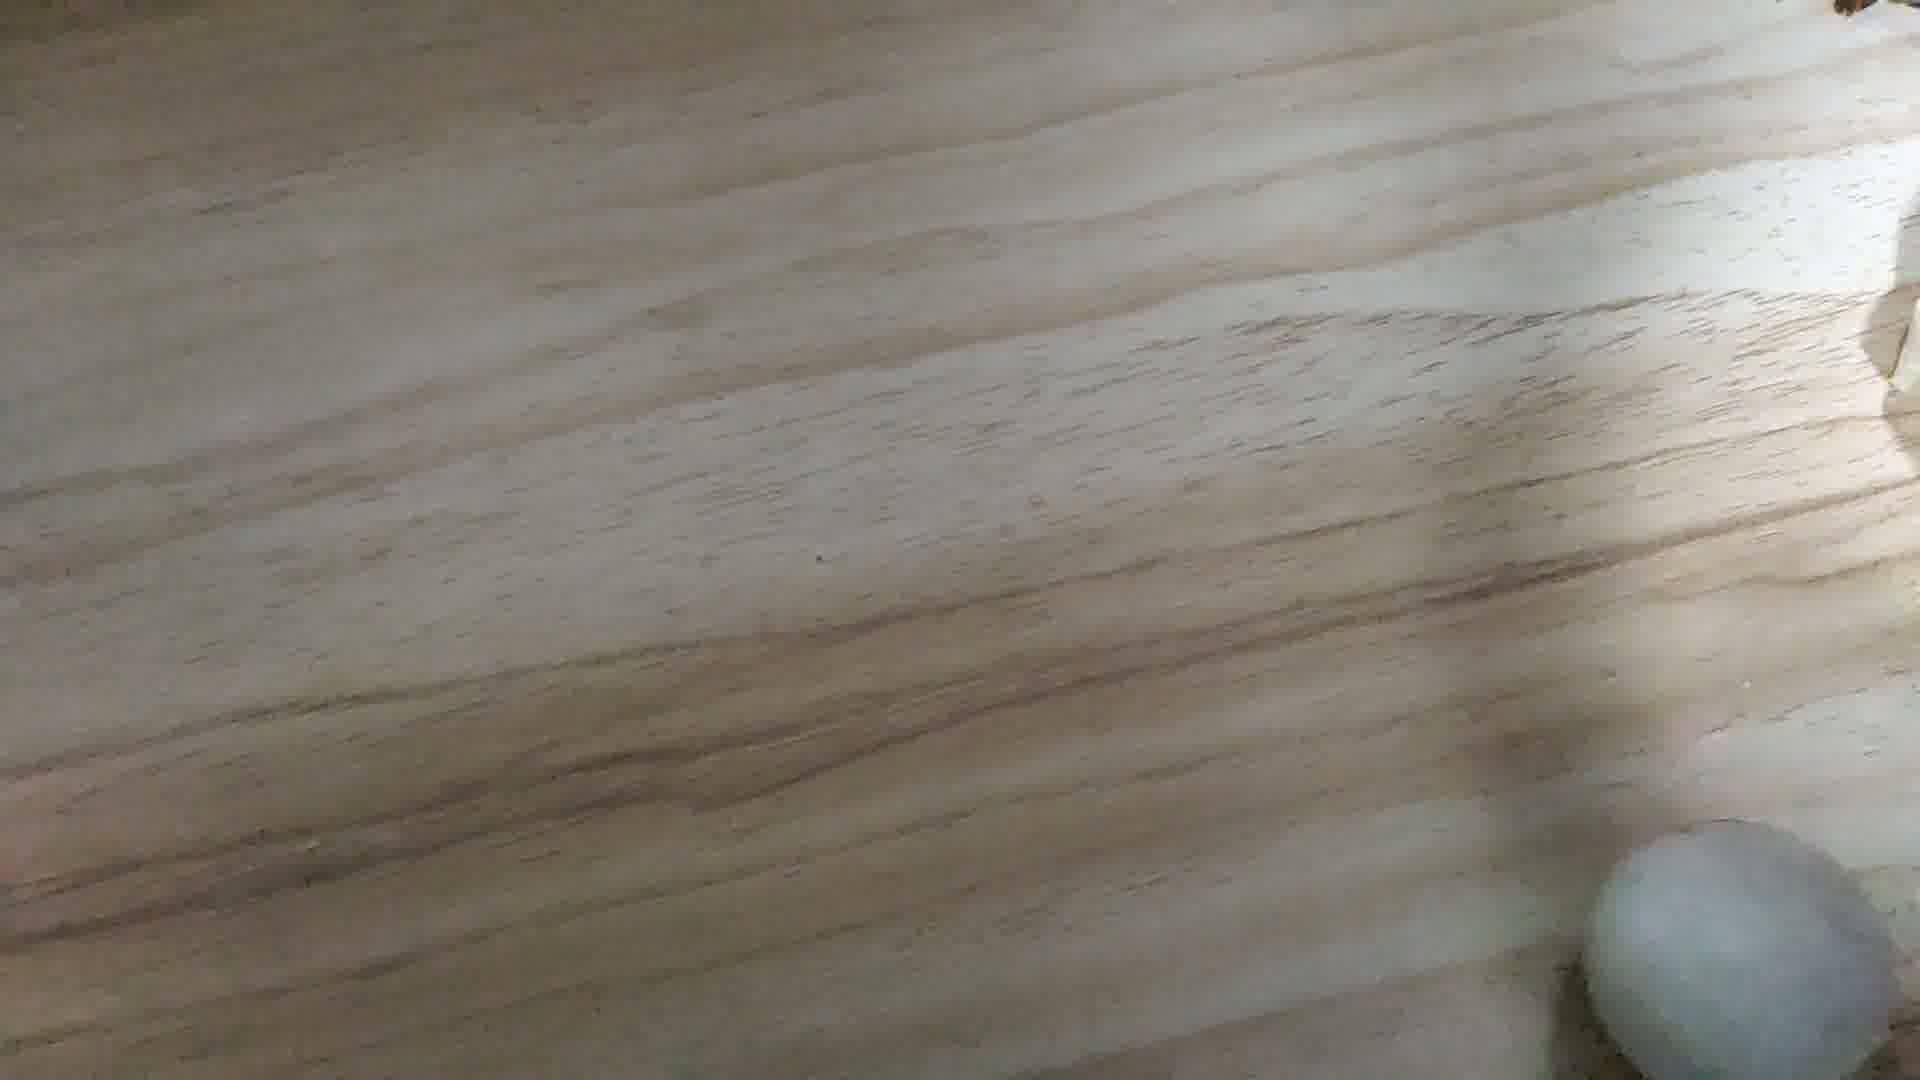Ball: (1580, 822, 1891, 1080)
